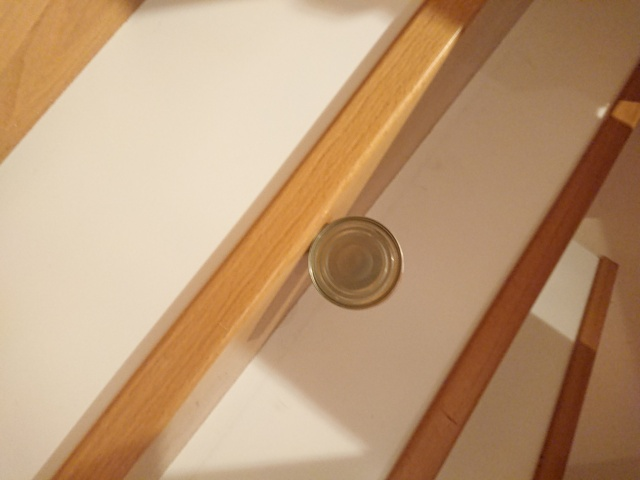Podravka Luncheon Meat 150g: (305, 212, 407, 314)
